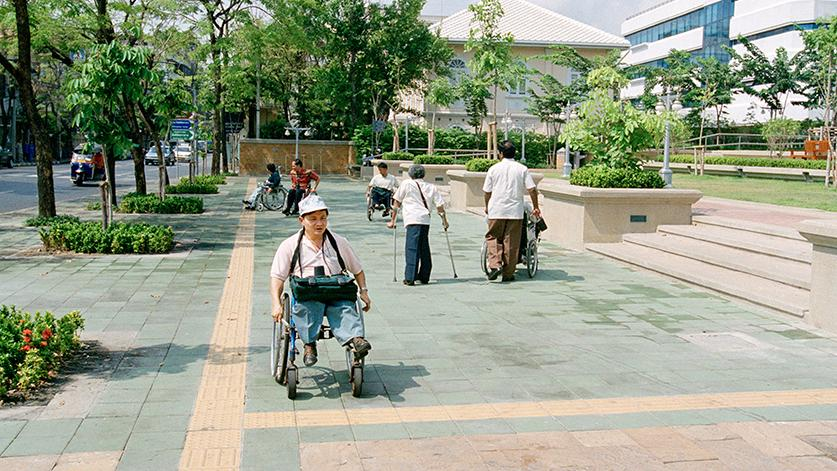crutches: (387, 164, 458, 286)
push_wheelchair: (483, 140, 542, 282)
wheelchair: (270, 195, 371, 399), (481, 184, 547, 278), (242, 163, 290, 212), (282, 158, 321, 217), (366, 162, 400, 222)
